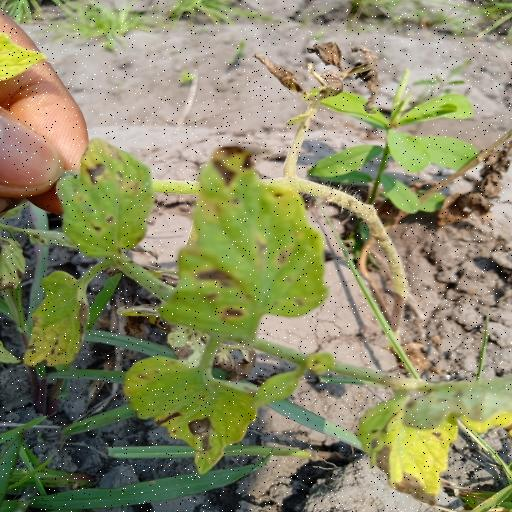Tomato_Brown_Spots: (155, 143, 336, 345), (122, 355, 264, 476), (352, 380, 470, 502), (54, 137, 154, 256)
